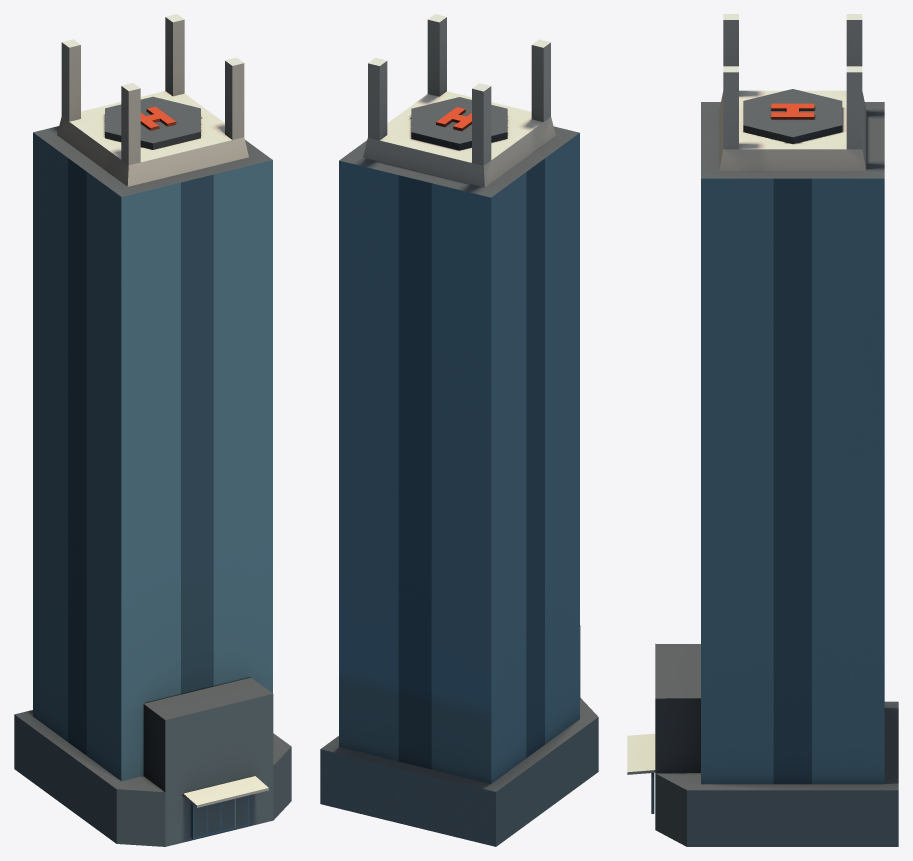
File: skyscraper-3.glb
3 renders of one model, left to right at view 1: azimuth 30°, elevation 25°; view 2: azimuth 150°, elevation 25°; view 3: azimuth 270°, elevation 25°, orthographic. The views are drawn at different scales.
Parts seen in each view (by area): view 1: skyscraper; view 2: skyscraper; view 3: skyscraper.
Part boxes in pixels (x1,y1,x2,y2): skyscraper: [14, 14, 291, 846]; skyscraper: [320, 14, 598, 846]; skyscraper: [627, 14, 898, 846].
Size of the model in its own units: 0.9029 by 3.61 by 1.17.
Materials: 1 (1 with a texture image).
